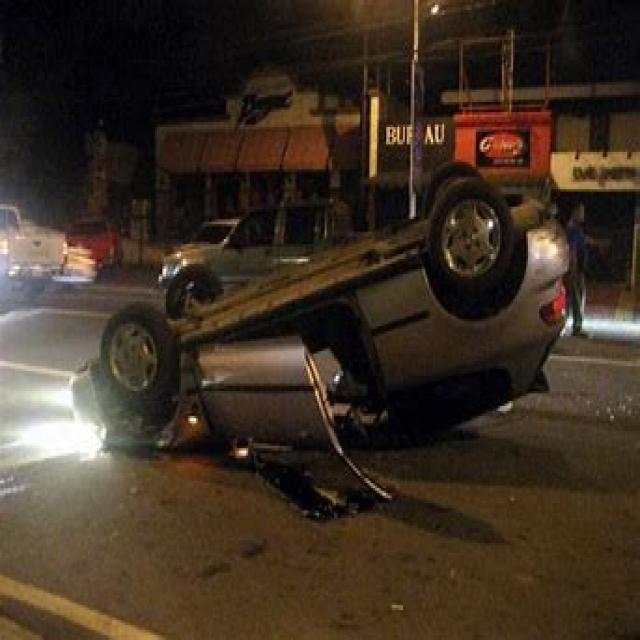Accident: (82, 125, 525, 606)
